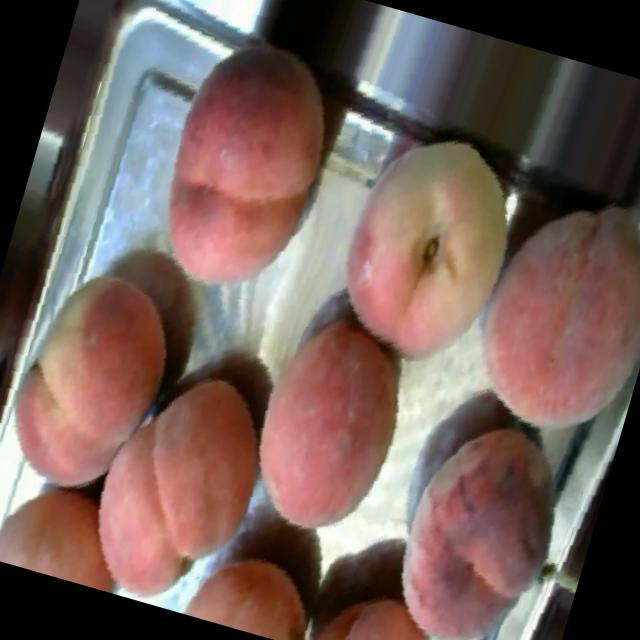Fruit: (129, 20, 364, 316), (306, 108, 540, 394), (57, 337, 289, 624), (212, 282, 446, 566), (357, 383, 609, 640), (0, 241, 214, 526), (452, 172, 640, 467), (0, 454, 159, 599), (161, 523, 335, 640), (300, 565, 483, 640)
